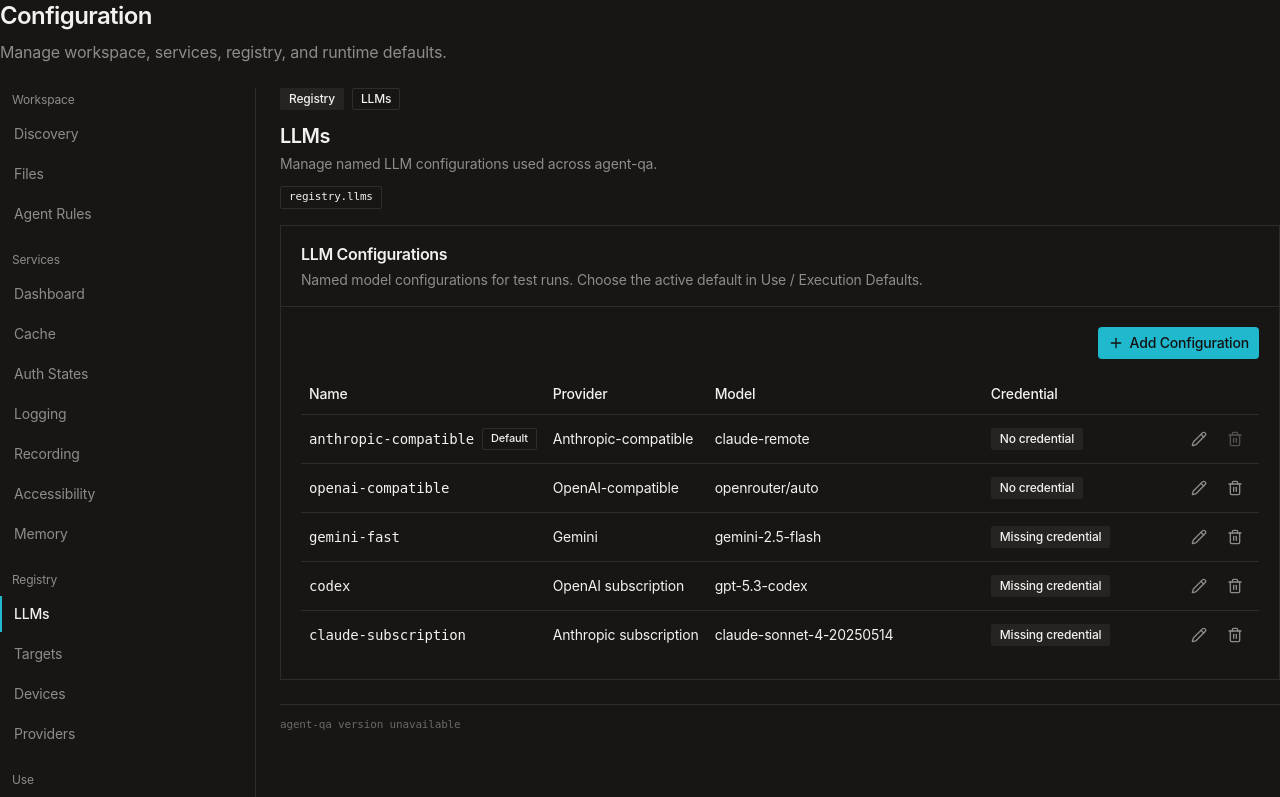
ConfigPage schema coverage › uses a free text model input without datalist
Expected: the row that starts with "openai-compatible" is shown, x1=301 y1=464 x2=1259 y2=512
Click the button titled "Edit configuration" in the row of "openrouter/auto".
click(1199, 488)  # box x1=1183 y1=472 x2=1215 y2=504
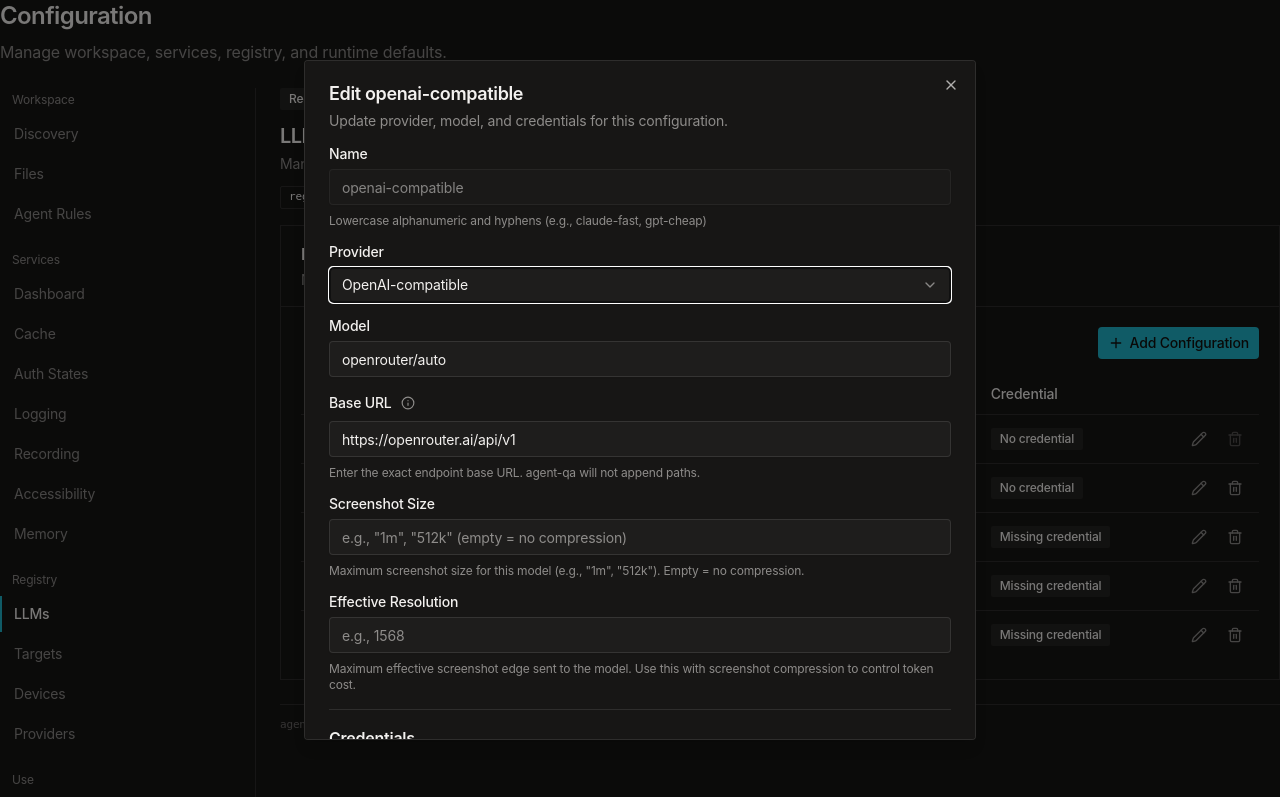
Expected: the field with placeholder "model-name" is shown, x1=329 y1=341 x2=951 y2=377
